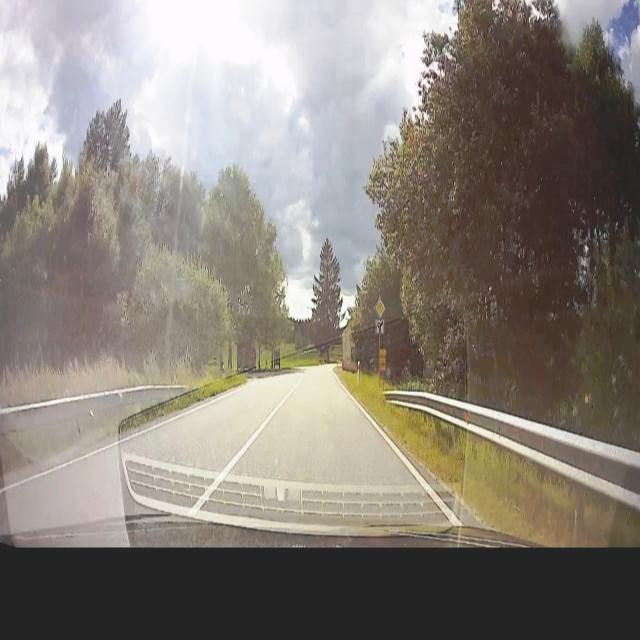Priority road: (373, 295, 388, 321)
